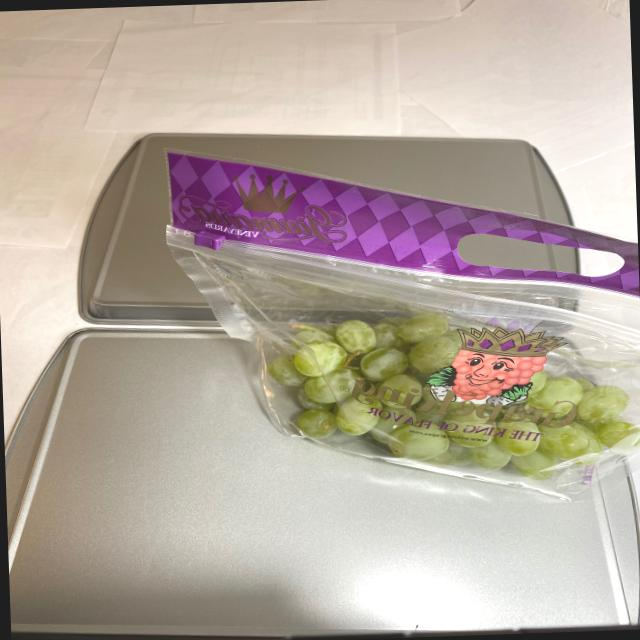grapes: (245, 299, 640, 488)
